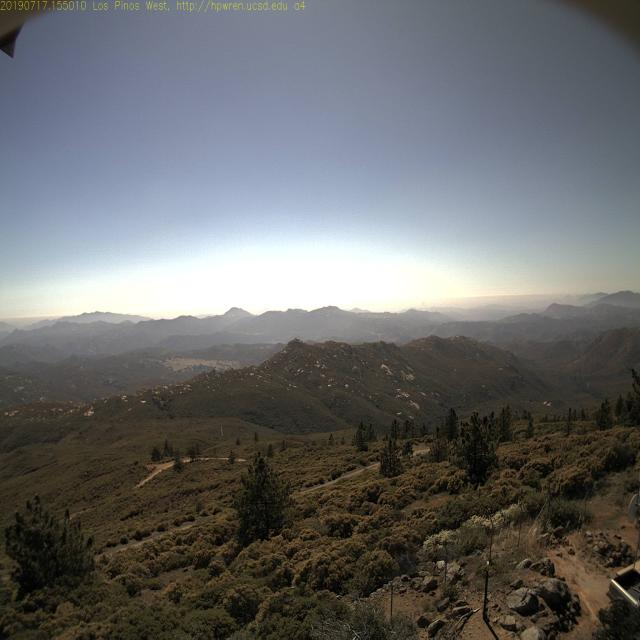smoke: (418, 296, 432, 316)
